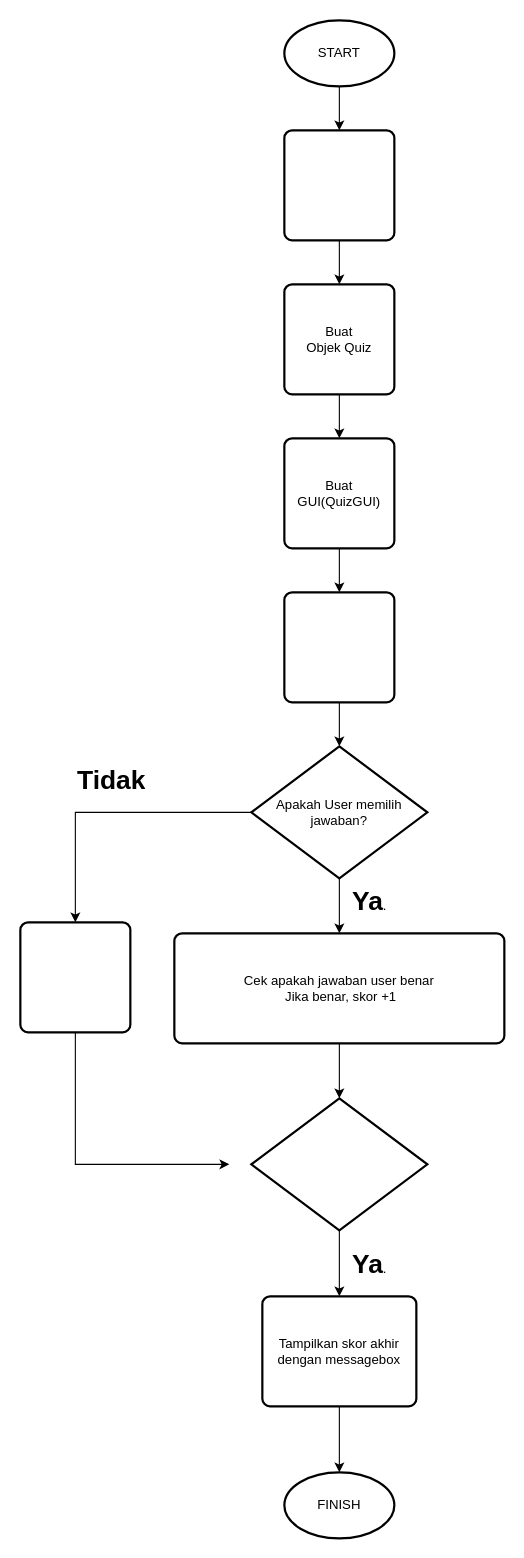
Image size: 524x1558. Some labels were removed from this diagram. Here are the shapes that lost their labels. From the top down, the centre of each, then its label:
[339,185]: Inisialisasi List Soal
[339,647]: Load Soal Pertama
[75,977]: Tampilkan warning
[339,1164]: Apakah soal habis?
